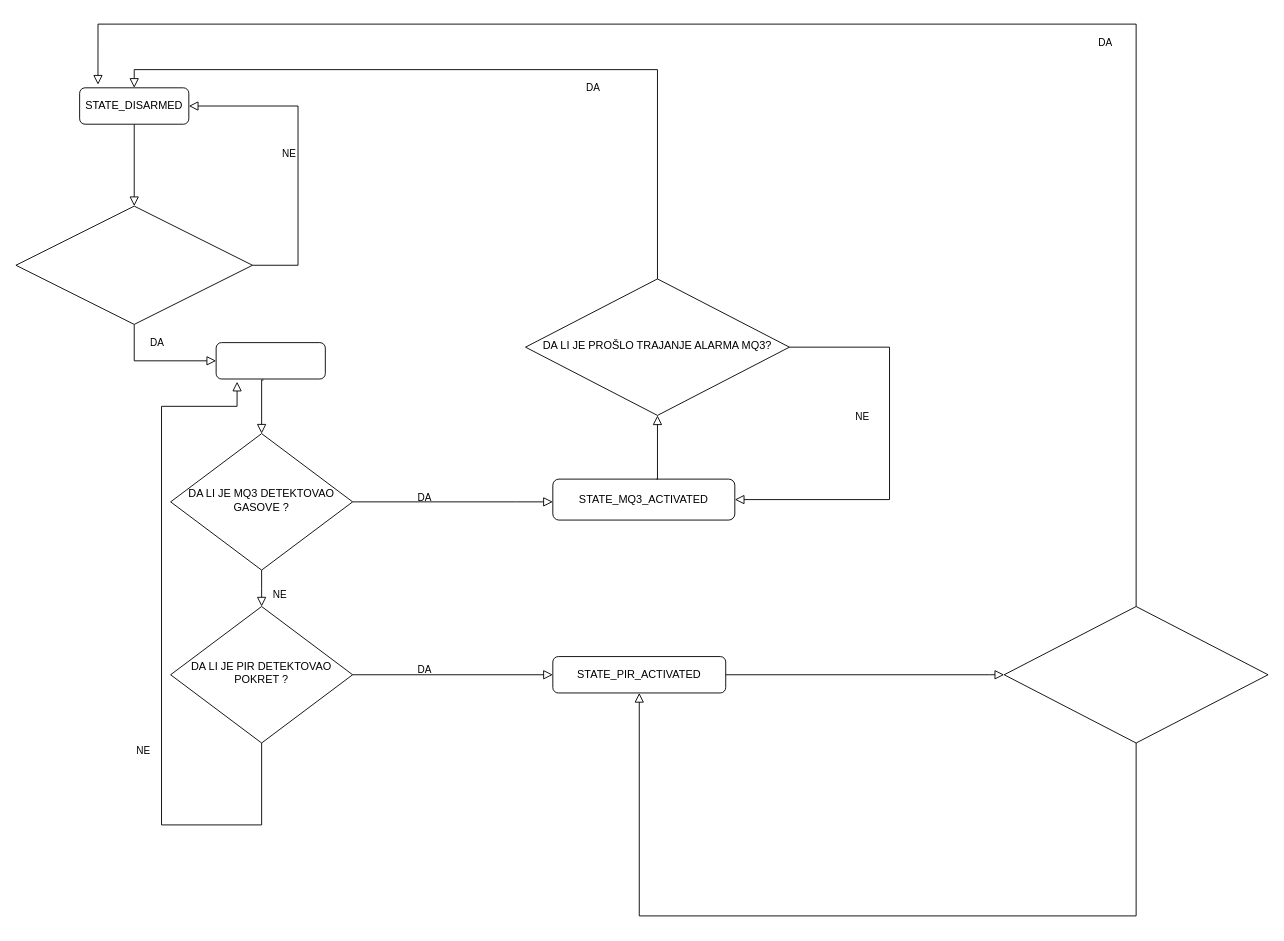
Image size: 1284x941. Some labels were removed from this diagram. Here are the shapes that lost their labels. From the top down, the centre of each, then its label:
At point 134,264: "DA LI JE PRITISNUT TASTER ZA NAORUŽAVANJE ?".
At point 270,360: "STATE_ARMED".
At point 1135,674: "DA LI JE PRITISNUT TASTER ZA RAZORUŽAVANJE ?".
